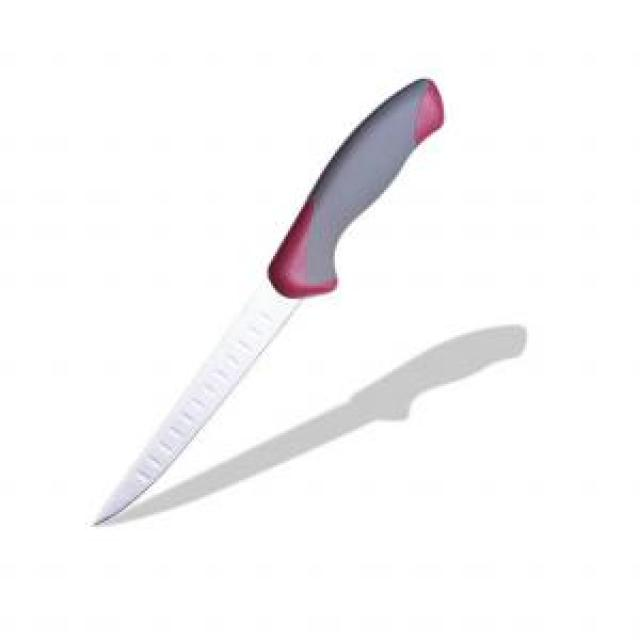knife: (89, 64, 462, 535)
